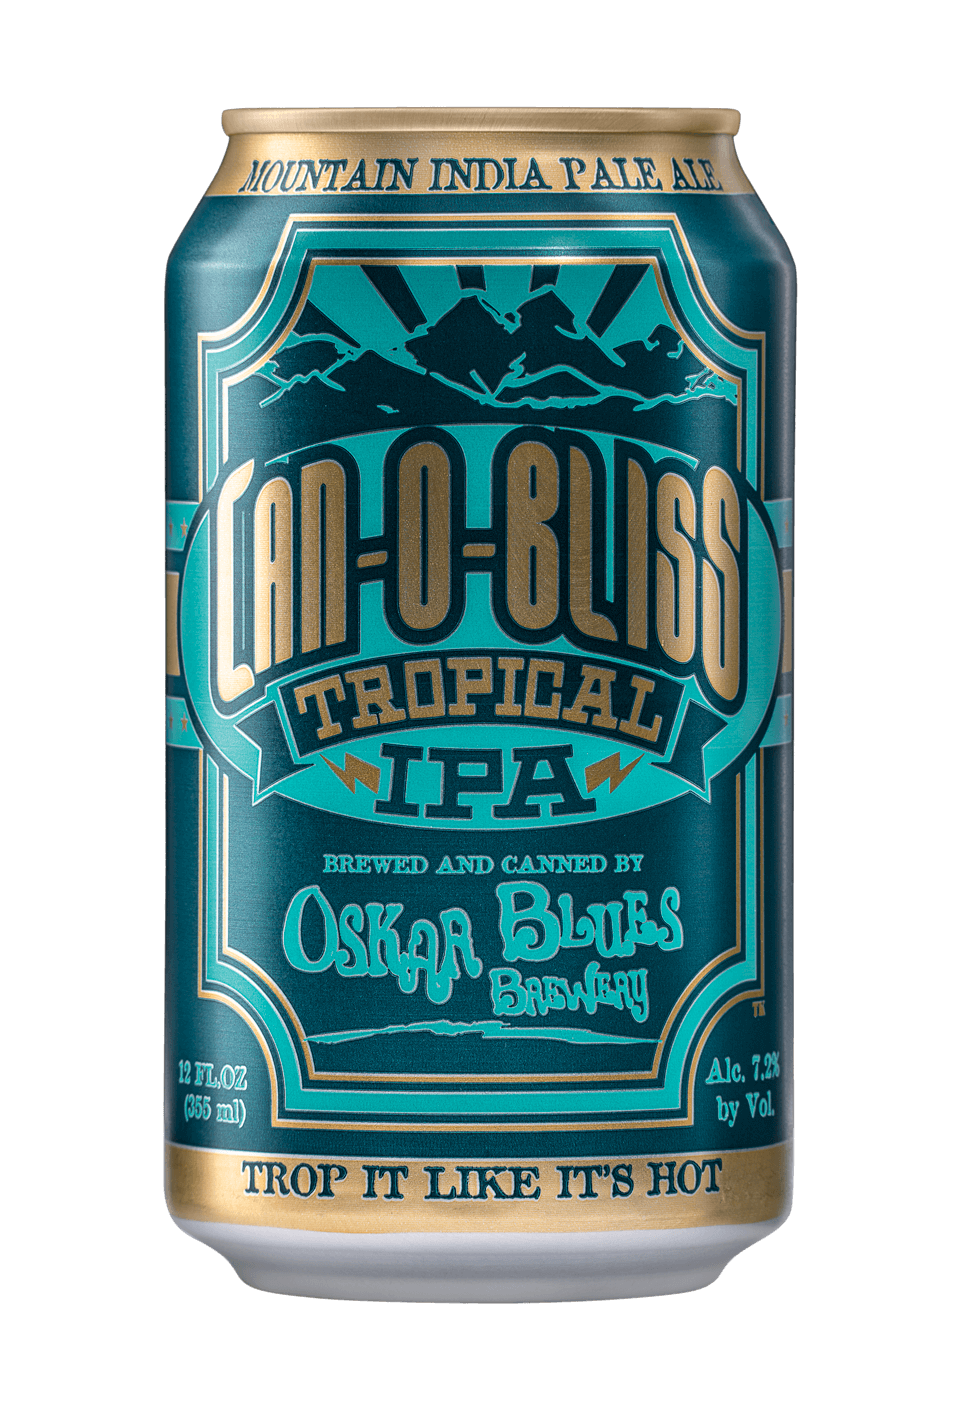beer can: (156, 96, 799, 1309)
